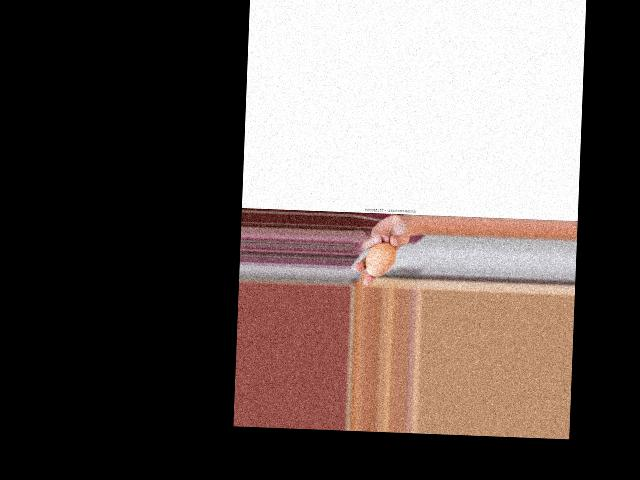egg: (364, 241, 395, 277)
